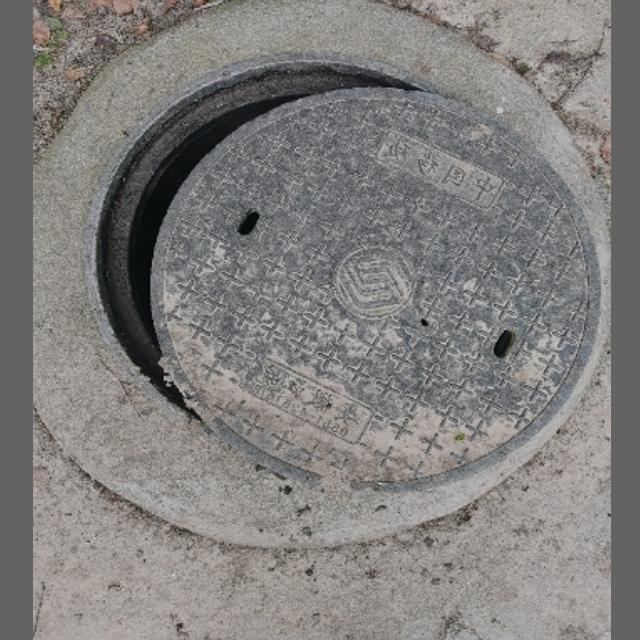uncovered: (83, 53, 601, 488)
